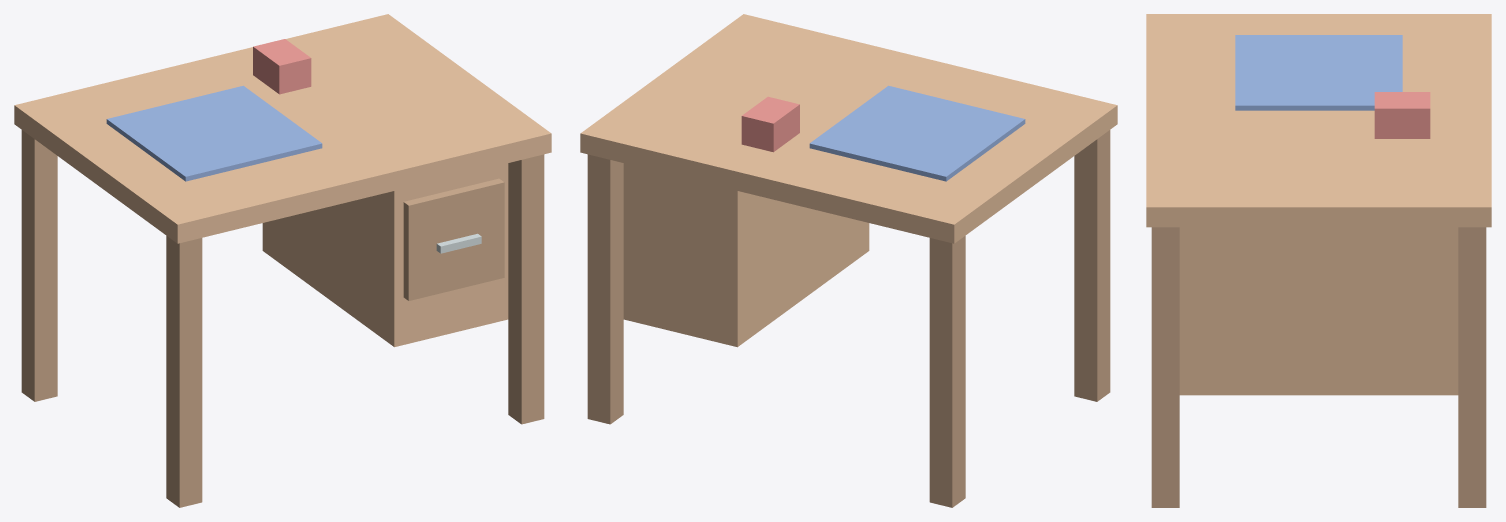
The model's file is kidsDeskSmall.glb.
3 renders of one model, left to right at view 1: azimuth 30°, elevation 25°; view 2: azimuth 150°, elevation 25°; view 3: azimuth 270°, elevation 25°, orthographic. The views are drawn at different scales.
Parts seen in each view (by area): view 1: kidsDeskSmall; view 2: kidsDeskSmall; view 3: kidsDeskSmall.
Part boxes in pixels (x1=…): kidsDeskSmall: x1=14, y1=14, x2=551, y2=507; kidsDeskSmall: x1=580, y1=14, x2=1117, y2=507; kidsDeskSmall: x1=1146, y1=14, x2=1491, y2=507.
Size of the model in its own units: 0.41 by 0.33 by 0.31.
